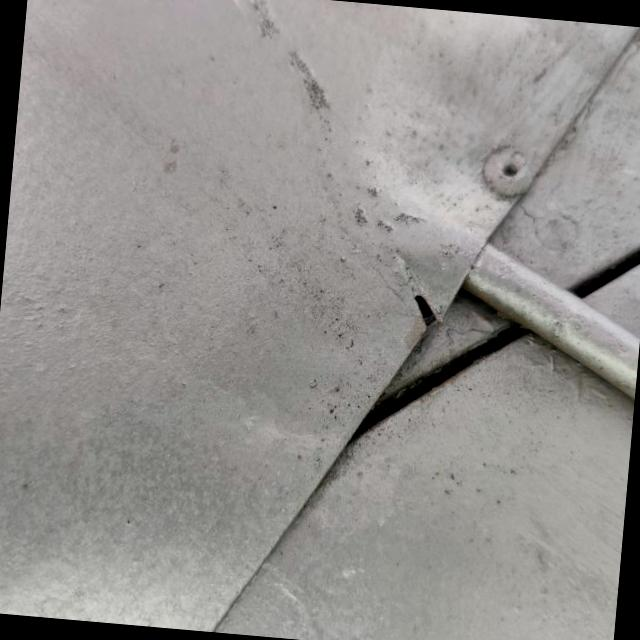crack: (389, 275, 464, 345)
